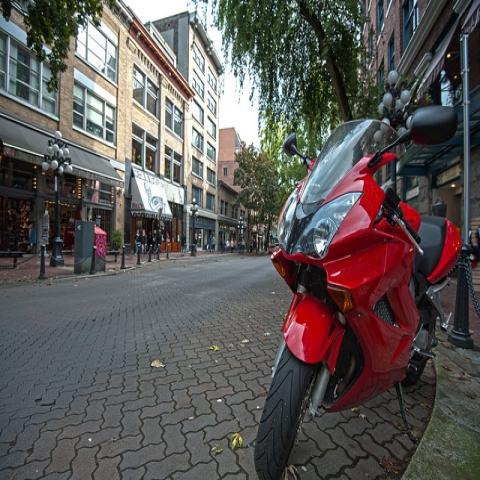motorcycle: (252, 106, 461, 479)
